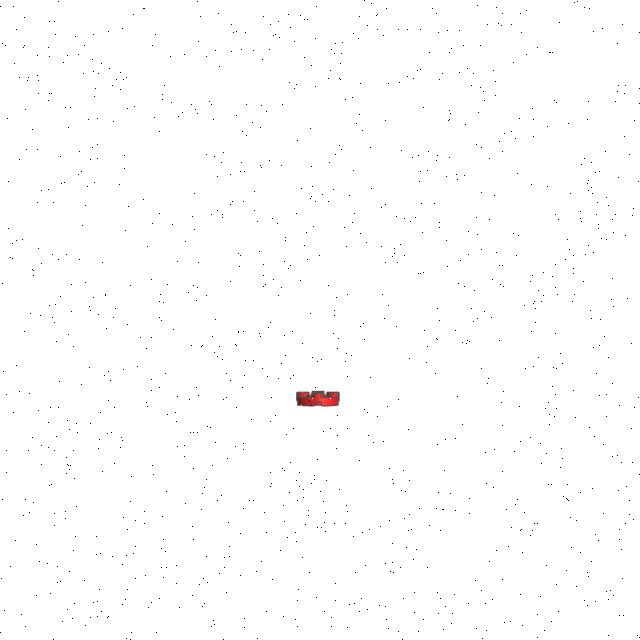4032a: (293, 388, 344, 412)
